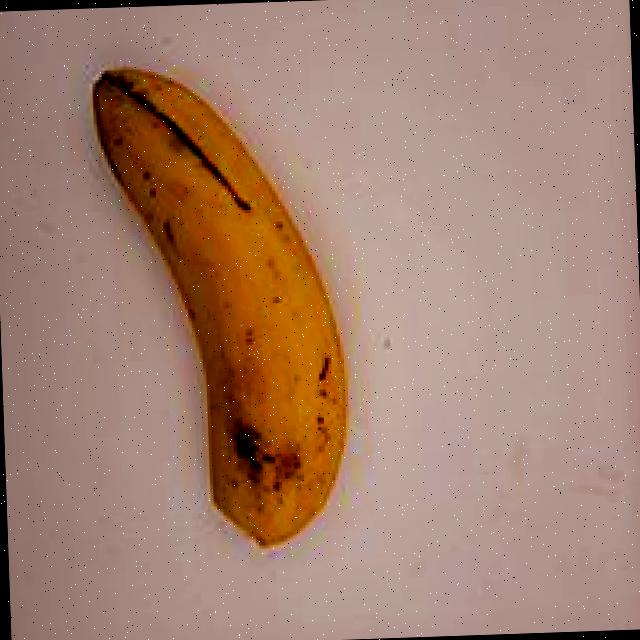Overripe: (31, 29, 398, 580)
